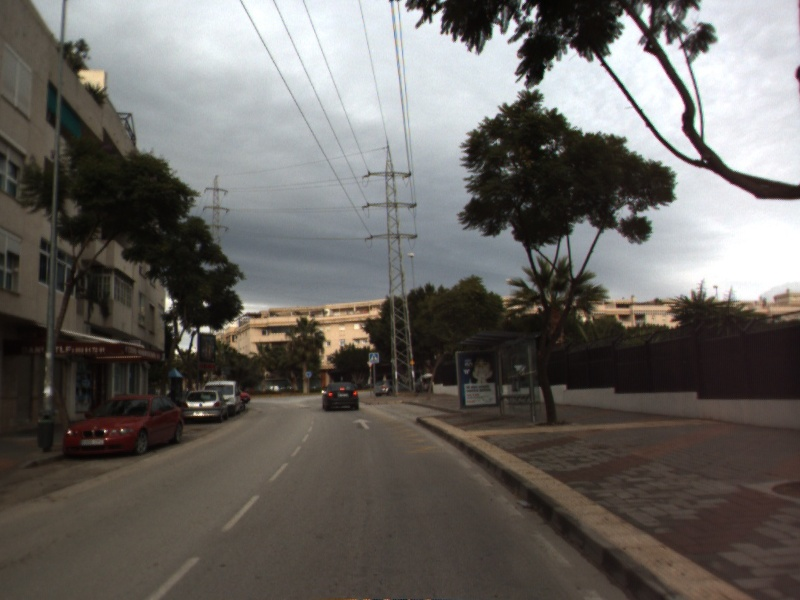STRAIGHT: (350, 416, 374, 431)
